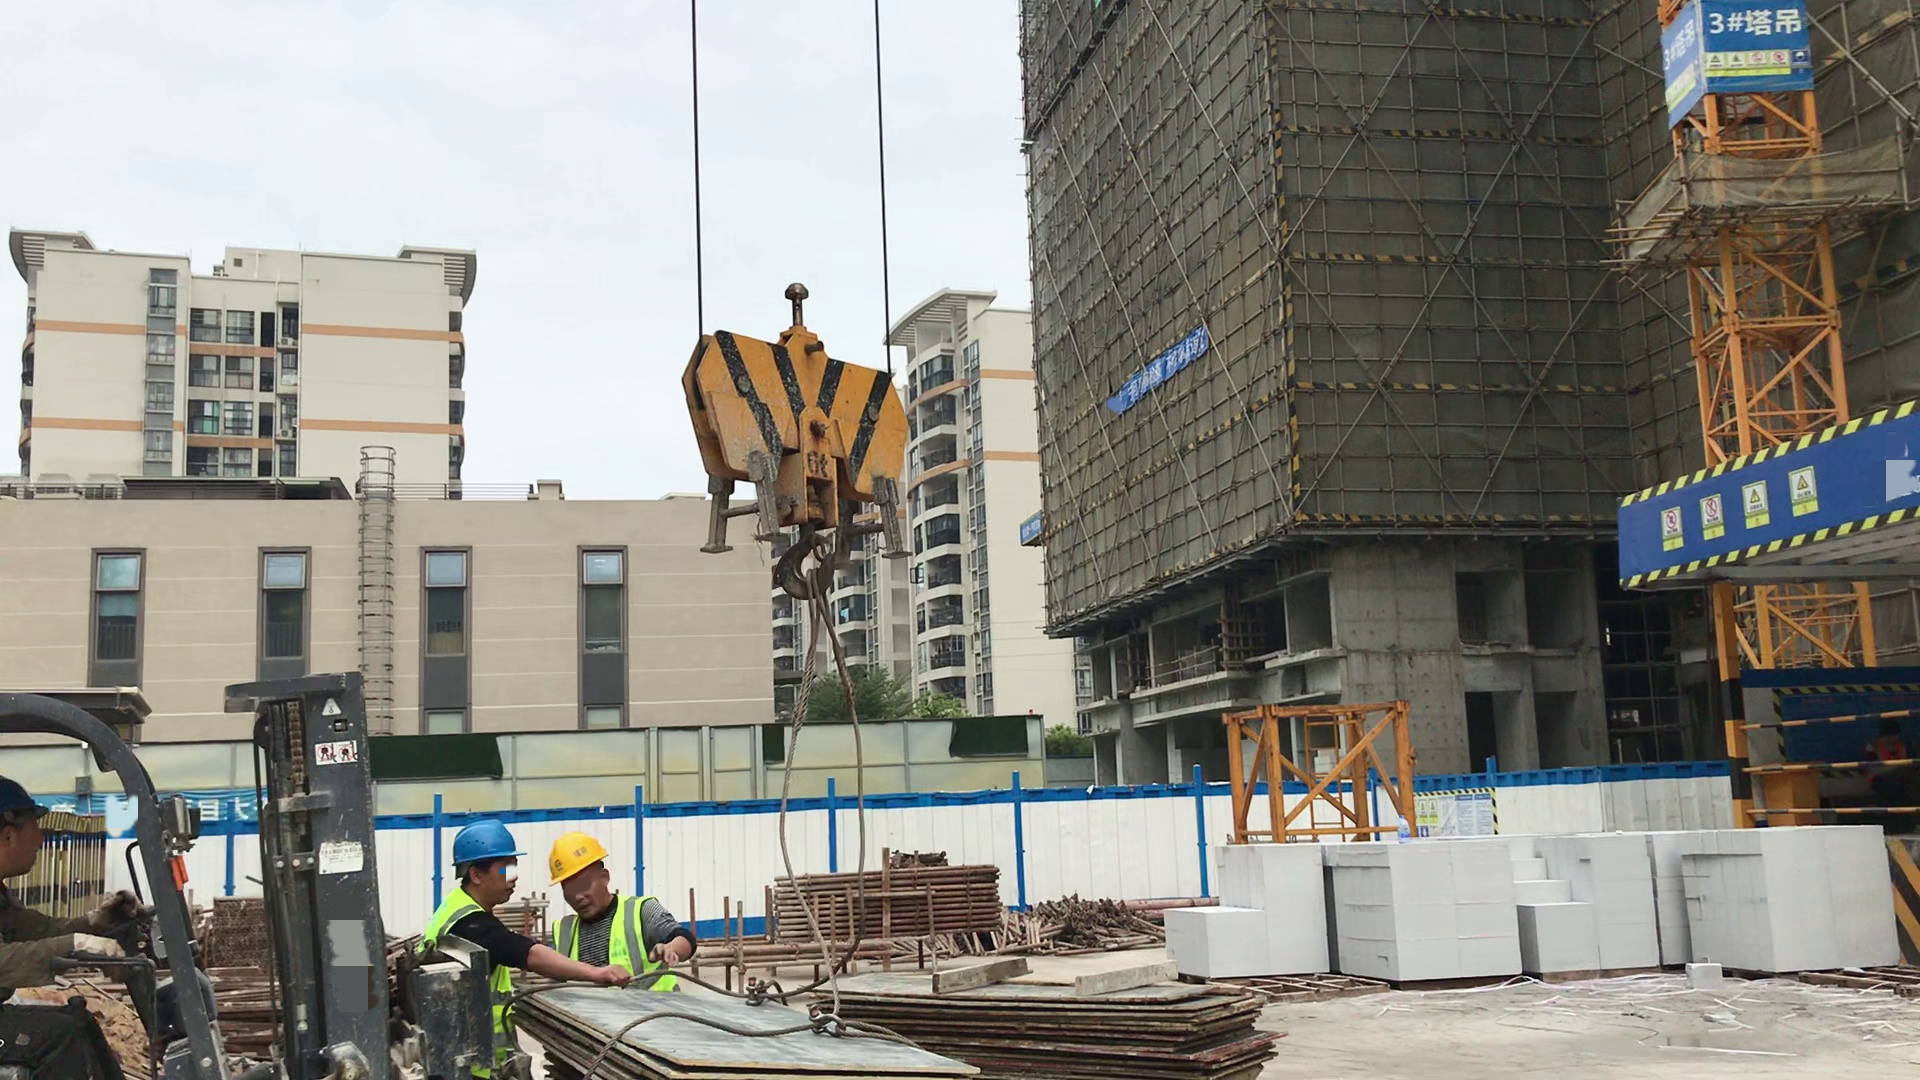board: (807, 953, 1284, 1080), (516, 979, 983, 1080)
brick: (1672, 819, 1901, 981), (1326, 823, 1524, 987), (1163, 826, 1329, 978), (1522, 826, 1668, 985)
helmet: (542, 834, 612, 888), (445, 818, 526, 862), (1, 774, 57, 822)
hook: (670, 278, 924, 571)
person: (392, 813, 561, 1080), (1, 772, 134, 1080), (529, 834, 712, 1005)
scaffold: (768, 861, 1012, 935)
slogan: (1116, 342, 1209, 401)
vest: (407, 892, 522, 1056), (546, 912, 674, 995)
